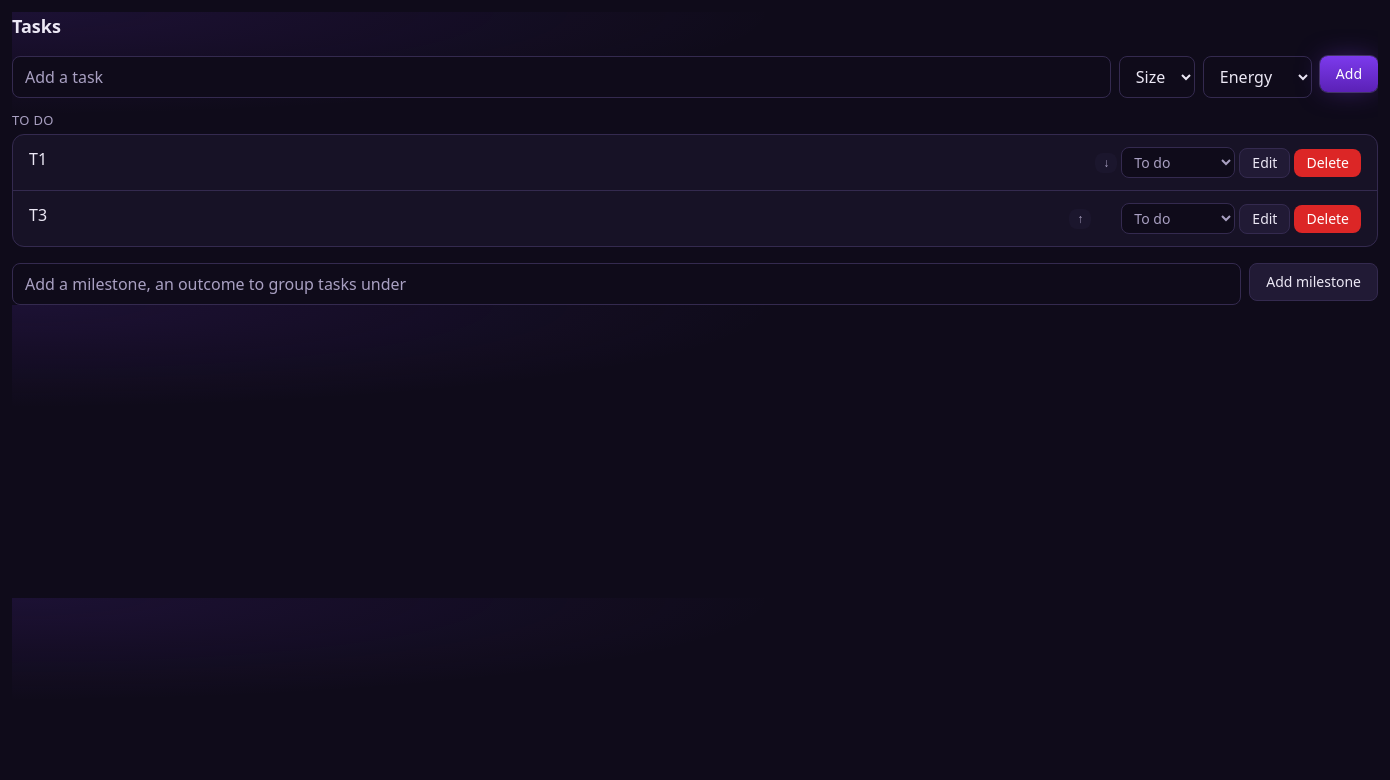
Test: ProjectTasks › reloads the list when a move fails
The image size is (1390, 780).
Click the button "↓" at [1106, 162], box x1=1095 y1=152 x2=1117 y2=172
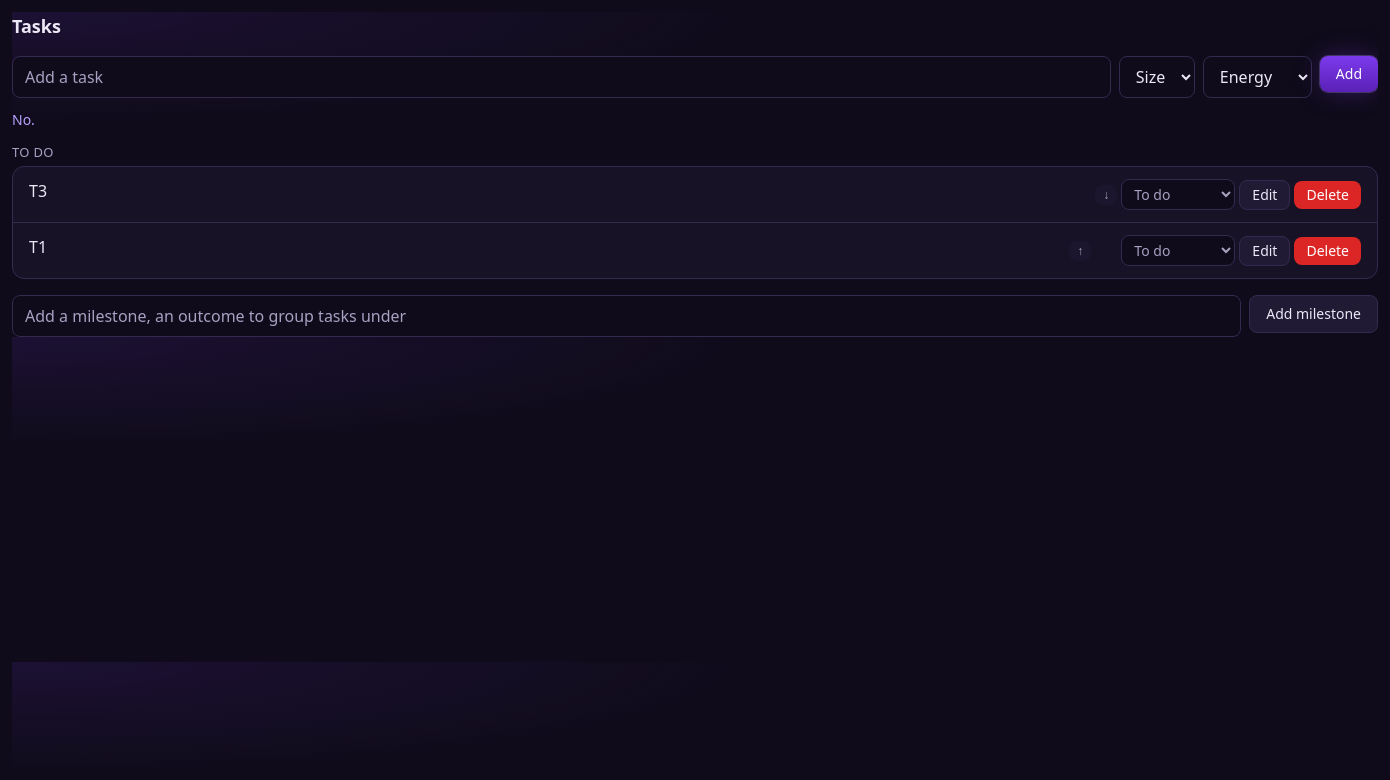
Expected: the text "No." is shown, x1=12 y1=110 x2=35 y2=129
